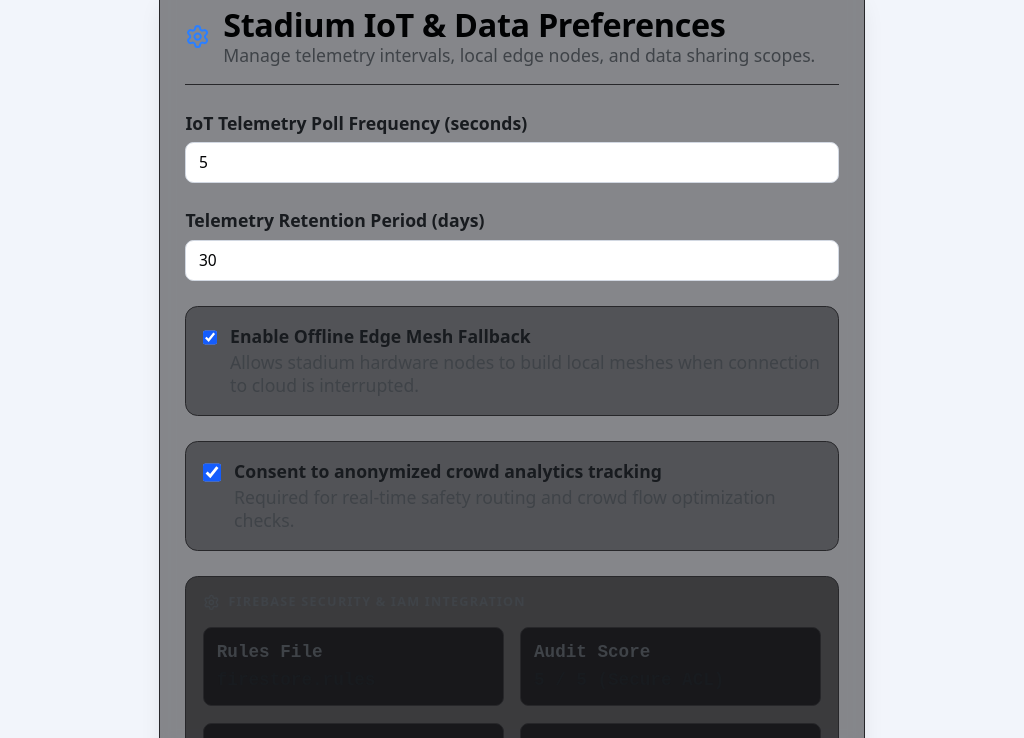
Test: Preferences Unit Component › clears field error when user edits the field after a failed submit
The image size is (1024, 738).
Replace the text in the number field labelled "IoT Telemetry Poll Frequency (seconds)" with "0" at (512, 162), box [185, 142, 839, 183]
(page scrolled)
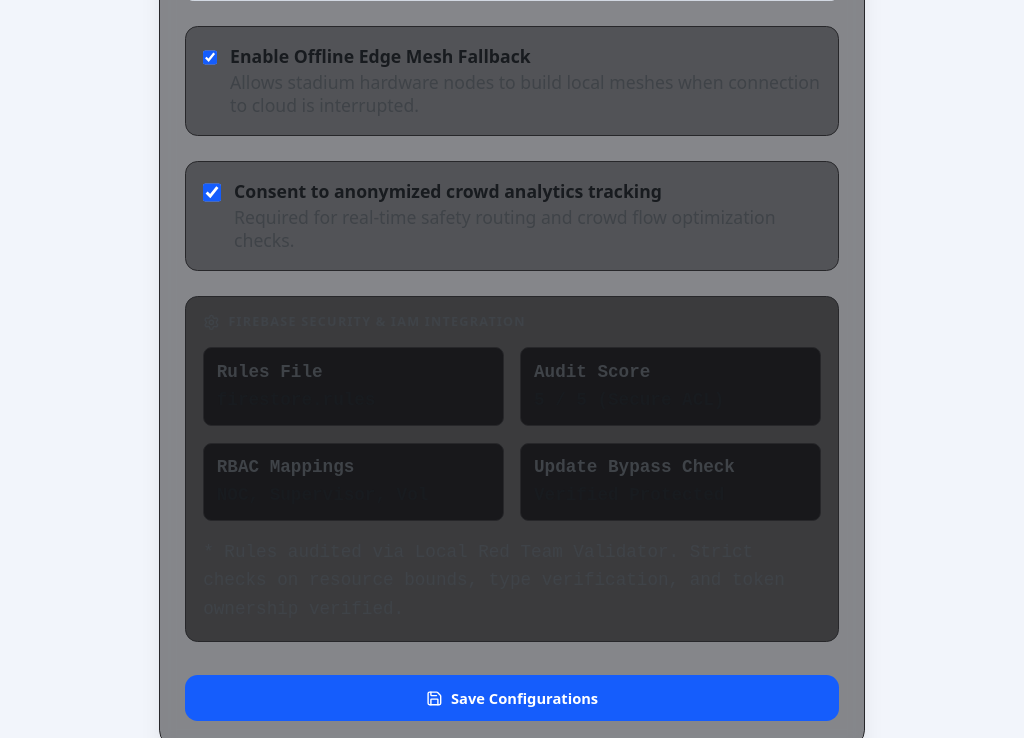
Click the button with aria-label "Save IoT preferences" at (512, 698), box [185, 675, 839, 721]
(page scrolled)
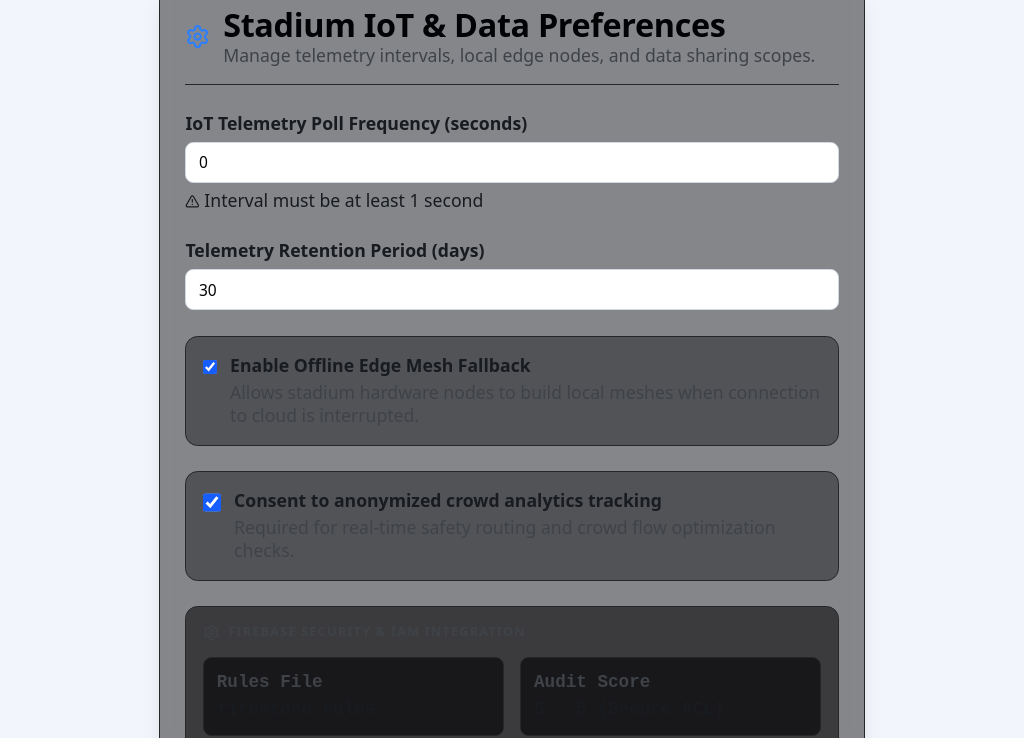
Expected: the text "Interval must be at least 1 second" is shown, [185, 188, 483, 212]
Fix the error by typing a valid value
Replace the text in the number field labelled "IoT Telemetry Poll Frequency (seconds)" with "10" at (512, 162), box [185, 142, 839, 183]
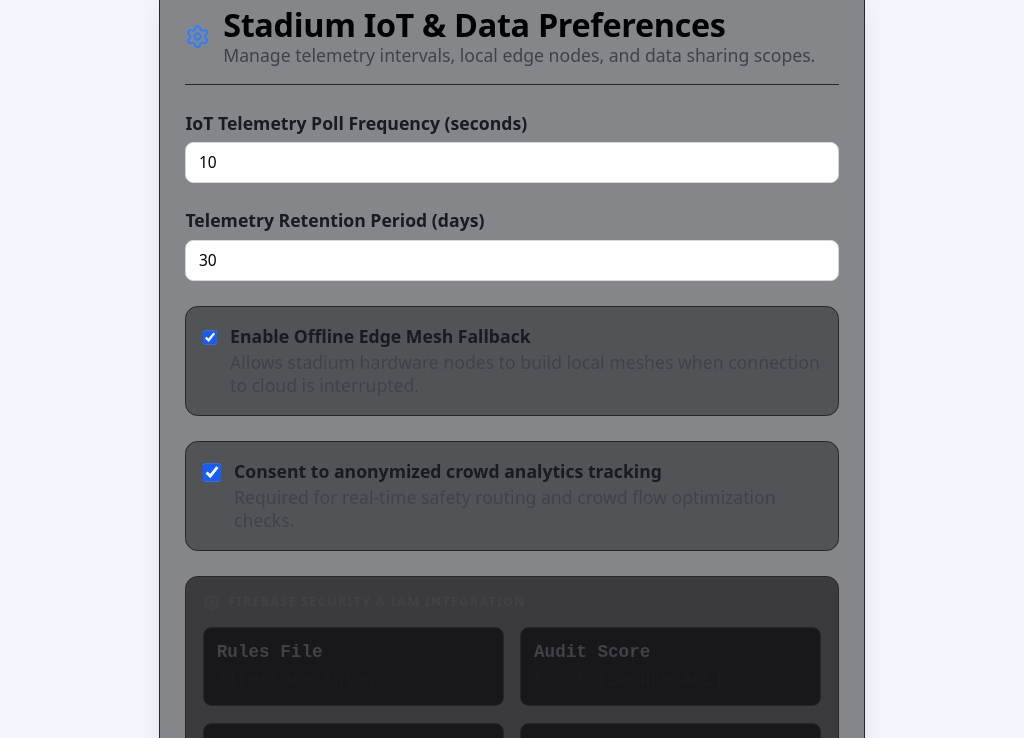
Expected: the text "Interval must be at least 1 second" is gone
